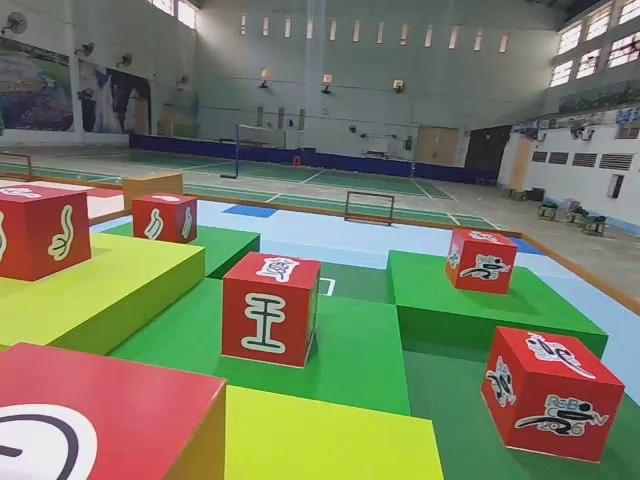R1: (481, 327, 625, 466), (446, 225, 517, 295)
R2 Fake: (221, 251, 322, 371)
R2 Real: (0, 339, 229, 480), (0, 185, 92, 282), (130, 191, 198, 247)
